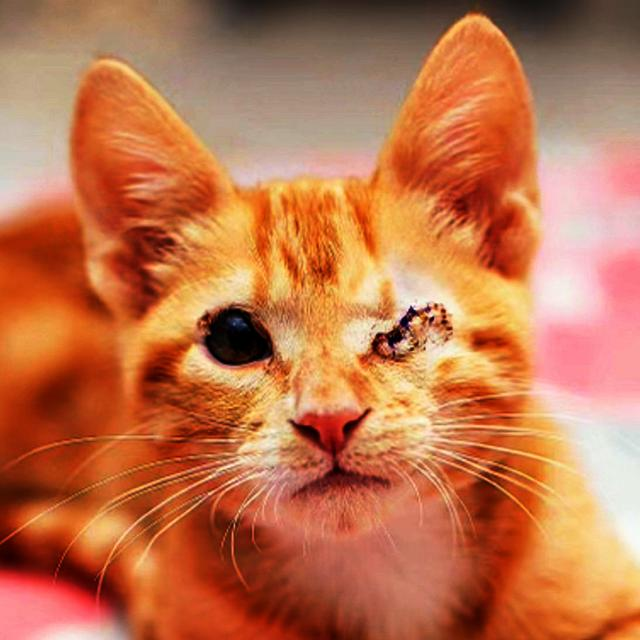eye_infection: (197, 308, 274, 367)
